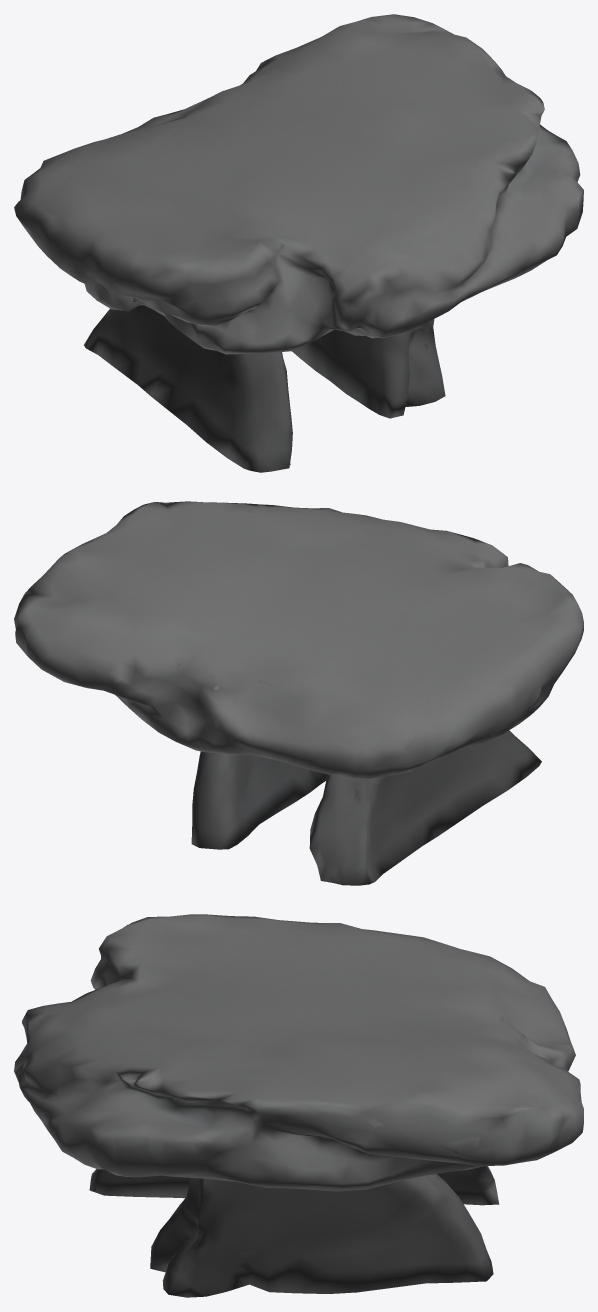
File: Meshy_AI_Stone_Leviathan_0826122843_texture.fbx
3 views of the same model, one above another, from view 1: azimuth 30°, elevation 25°; view 2: azimuth 150°, elevation 25°; view 3: azimuth 270°, elevation 25° (orthographic). The views are drawn at different scales.
Visible parts, largest first — view 1: mesh_node; view 2: mesh_node; view 3: mesh_node.
Part boxes in pixels (x1,y1,x2,y2): mesh_node: [14, 14, 583, 472]; mesh_node: [14, 501, 583, 885]; mesh_node: [14, 914, 583, 1297].
Bounding box in the file's own units: 589 × 300 × 572.
1 material, 1 textured.
